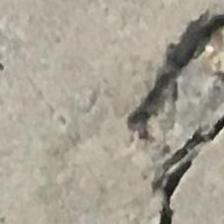Crack: (99, 6, 223, 224)
